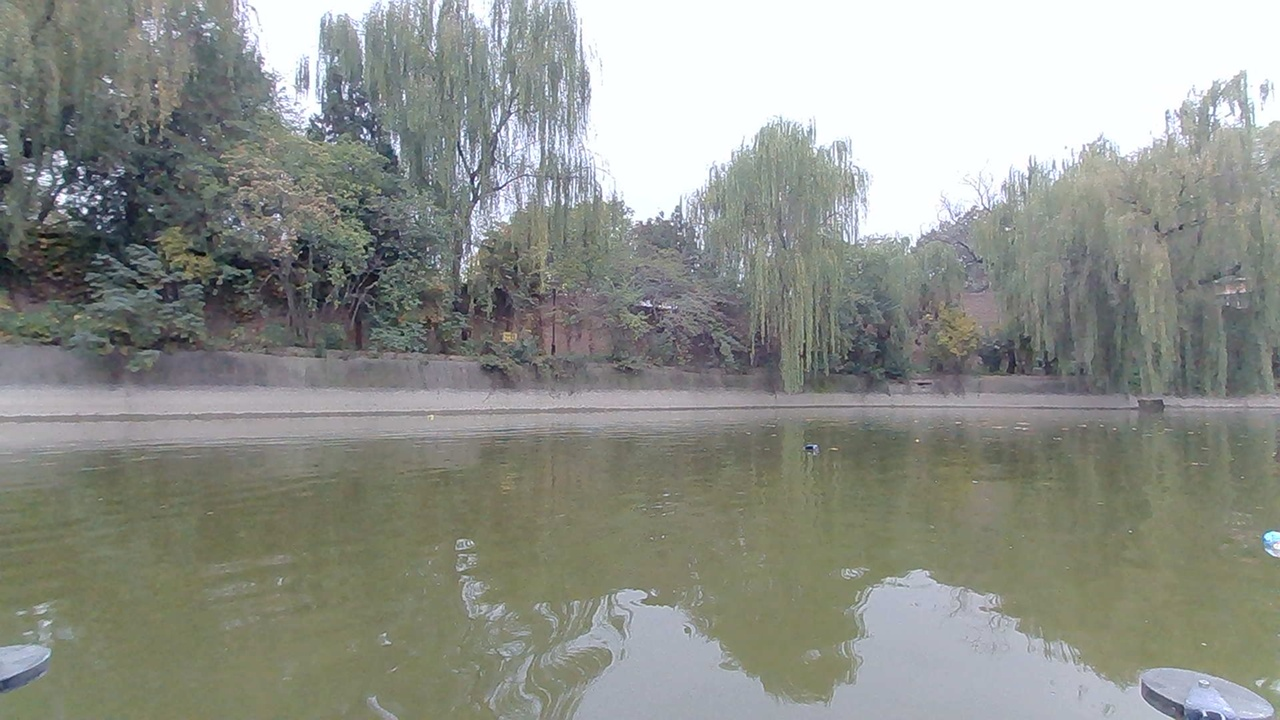bottle: (1251, 524, 1280, 567), (798, 433, 826, 459)
